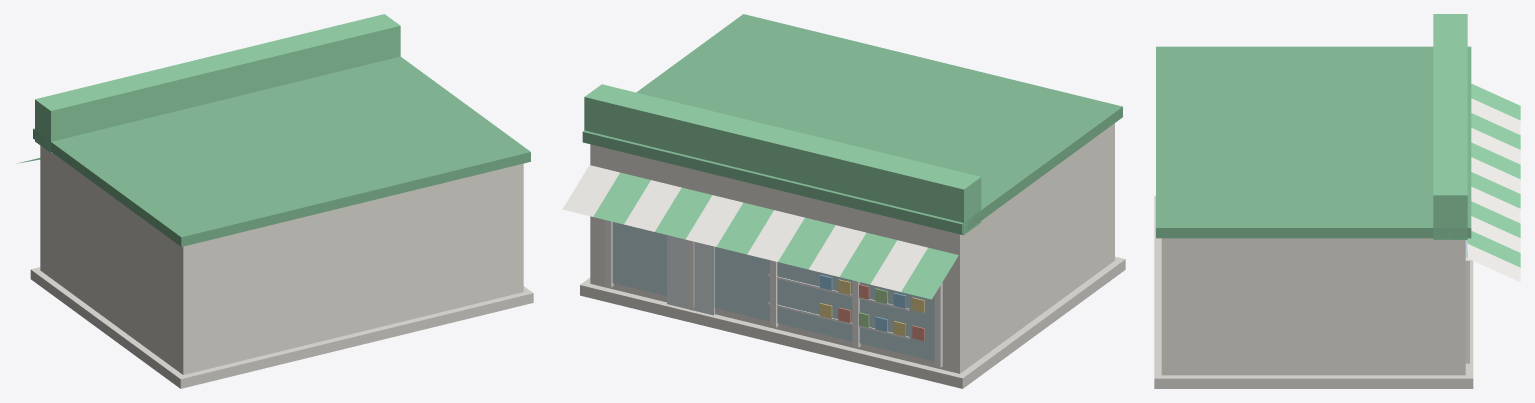
Rendered from pharmacy.glb.
The picture shows the model from 3 angles, left to right: view 1: azimuth 30°, elevation 25°; view 2: azimuth 150°, elevation 25°; view 3: azimuth 270°, elevation 25°; orthographic projection. The views are drawn at different scales.
Visible parts, largest first — view 1: Pharmacy; view 2: Pharmacy; view 3: Pharmacy.
Part boxes in pixels (x1,y1,x2,y2): Pharmacy: (17, 14, 533, 388); Pharmacy: (562, 14, 1125, 388); Pharmacy: (1154, 14, 1520, 388).
Size of the model in its own units: 11.4 by 5.6 by 9.65.
